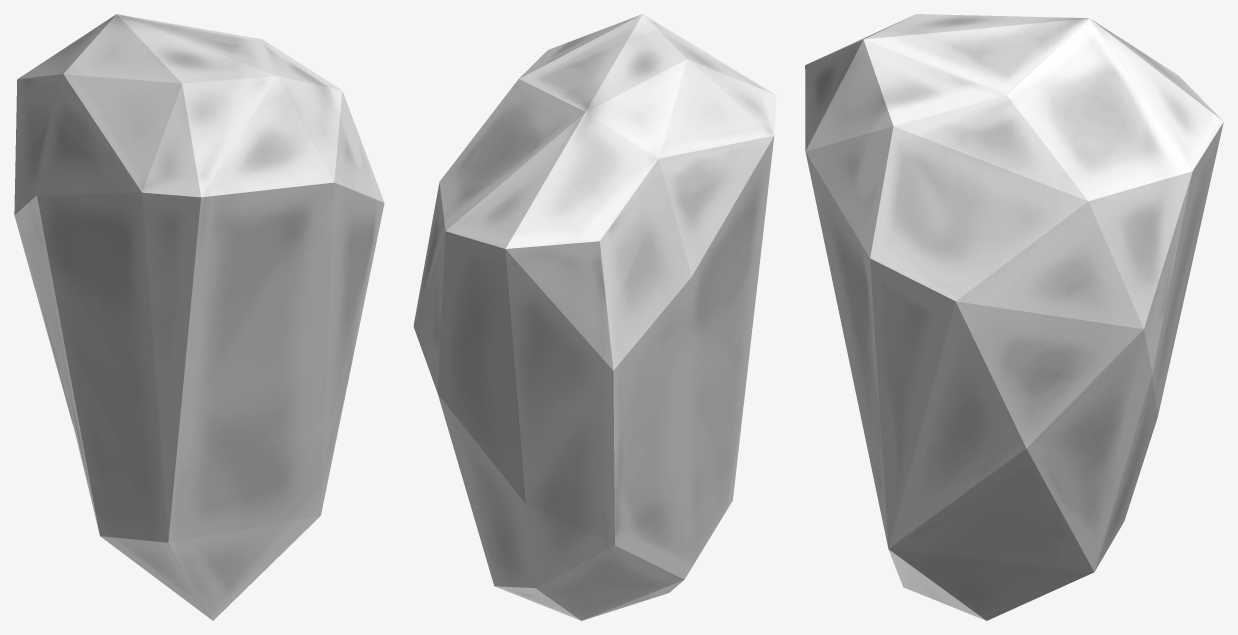
Rendered from Mineral_01.fbx.
3 views of the same model, side by side, from view 1: azimuth 30°, elevation 25°; view 2: azimuth 150°, elevation 25°; view 3: azimuth 270°, elevation 25° (orthographic). The views are drawn at different scales.
Visible parts, largest first — view 1: Mineral_01; view 2: Mineral_01; view 3: Mineral_01.
Boxes of the visible parts, left/top/right/bottom form: Mineral_01: left=14, top=14, right=384, bottom=620; Mineral_01: left=413, top=14, right=776, bottom=620; Mineral_01: left=805, top=14, right=1223, bottom=620.
Bounding box in the file's own units: 48.71 × 92.93 × 60.72.
